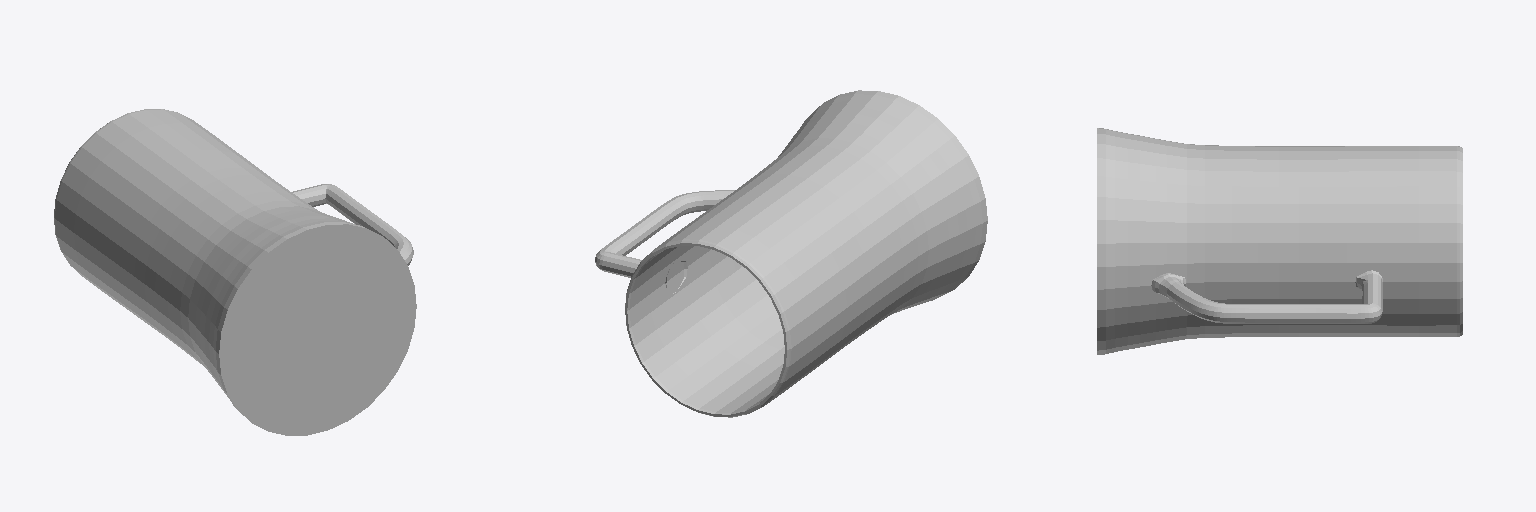
File: glass.obj
The picture shows the model from 3 angles: view 1: azimuth 30°, elevation 25°; view 2: azimuth 150°, elevation 25°; view 3: azimuth 270°, elevation 25°; orthographic projection.
Parts seen in each view (by area): view 1: glass; view 2: glass; view 3: glass.
Boxes of the visible parts, box(x1,y1,x2,y2) form: glass: box(54, 109, 416, 435); glass: box(595, 90, 987, 417); glass: box(1097, 128, 1462, 354).
Size of the model in its own units: 4.41 by 3.38 by 5.44.